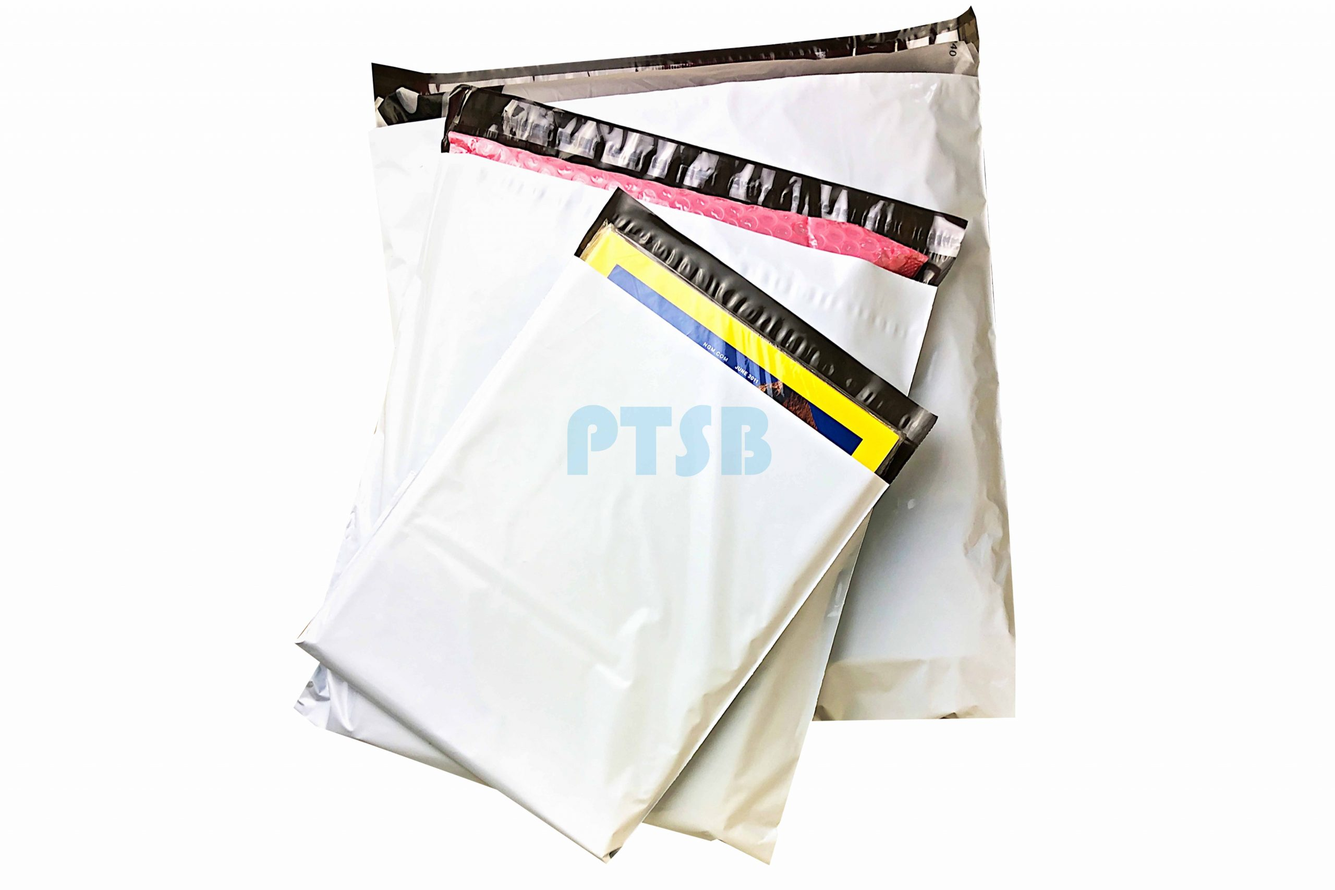Parcel: (298, 71, 1015, 861)
